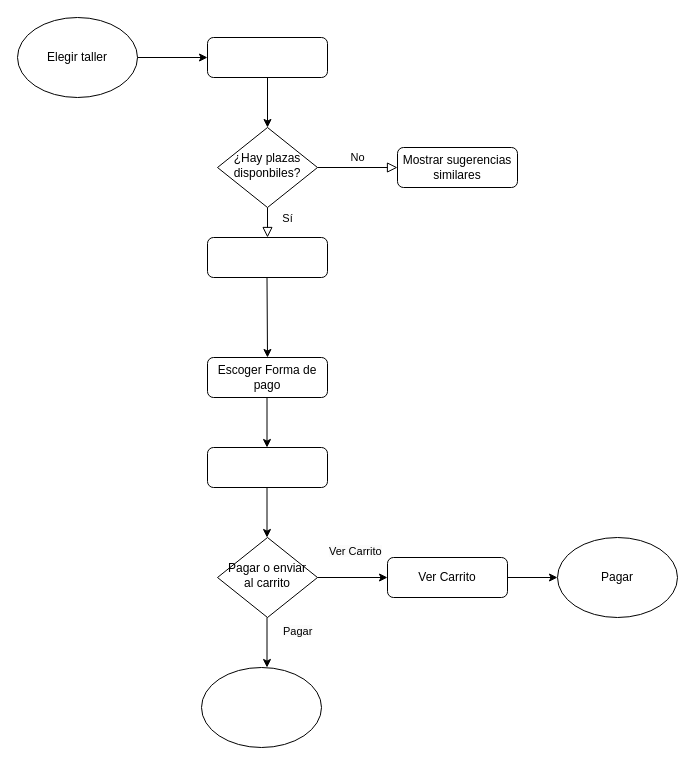
This 695x765 diagram has some shape labels left out. Each missing label, with the box of its shape:
Click a "Reservar": (206, 36, 328, 78)
Introducir Datos de pago: (206, 446, 328, 488)
Introducir datos personales: (206, 236, 328, 278)
Salir: (200, 666, 322, 748)
